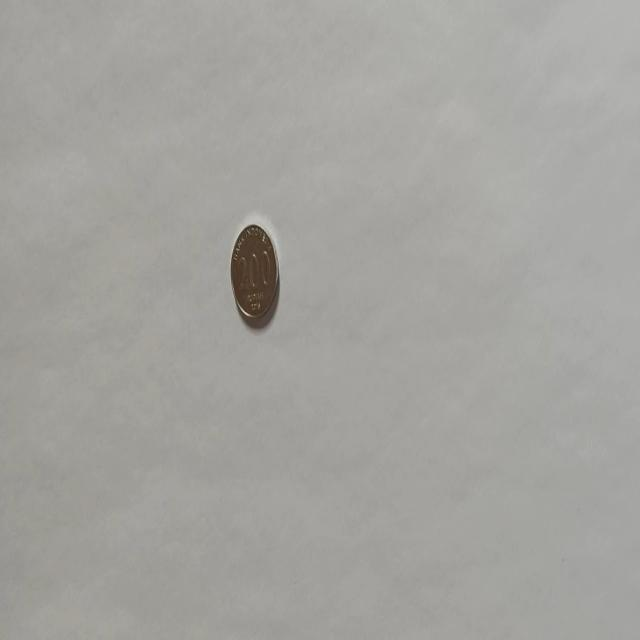dua ratus rupiah: (228, 222, 280, 324)
